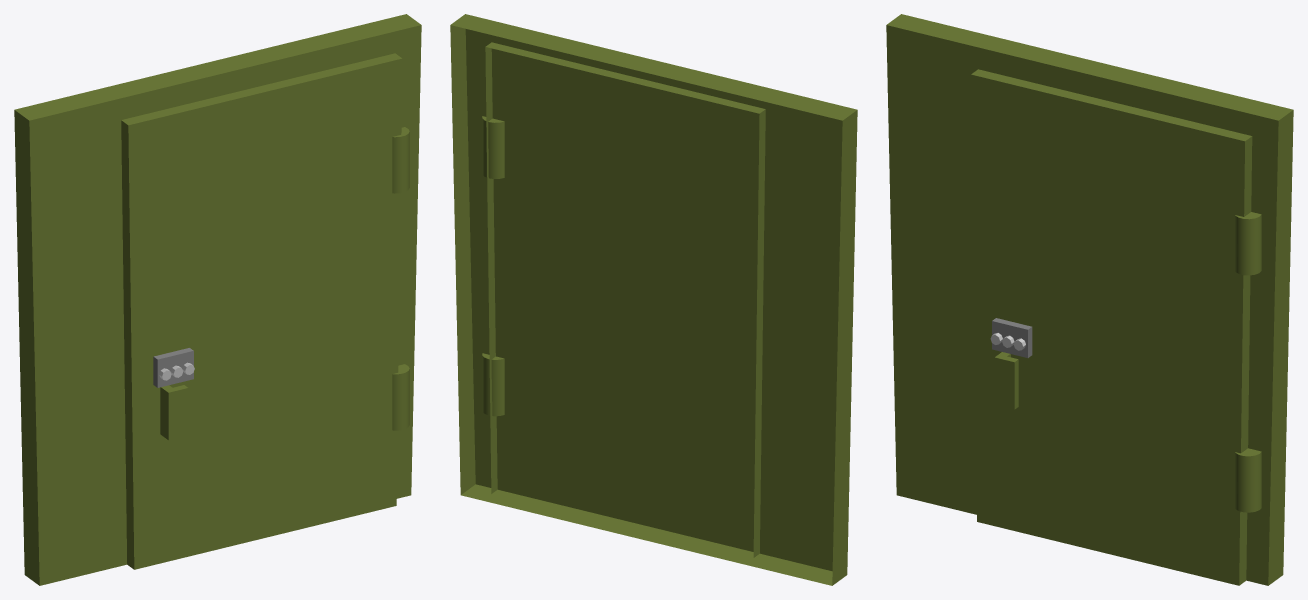
The model's file is House (door).fbx.
3 renders of one model, left to right at view 1: azimuth 30°, elevation 25°; view 2: azimuth 150°, elevation 25°; view 3: azimuth 330°, elevation 25°, orthographic.
Parts seen in each view (by area): view 1: House (door); view 2: House (door); view 3: House (door).
Part boxes in pixels (x1,y1,x2,y2): House (door): (14,14,421,585); House (door): (450,14,857,585); House (door): (886,14,1293,585).
Size of the model in its own units: 444 by 506 by 59.65.
